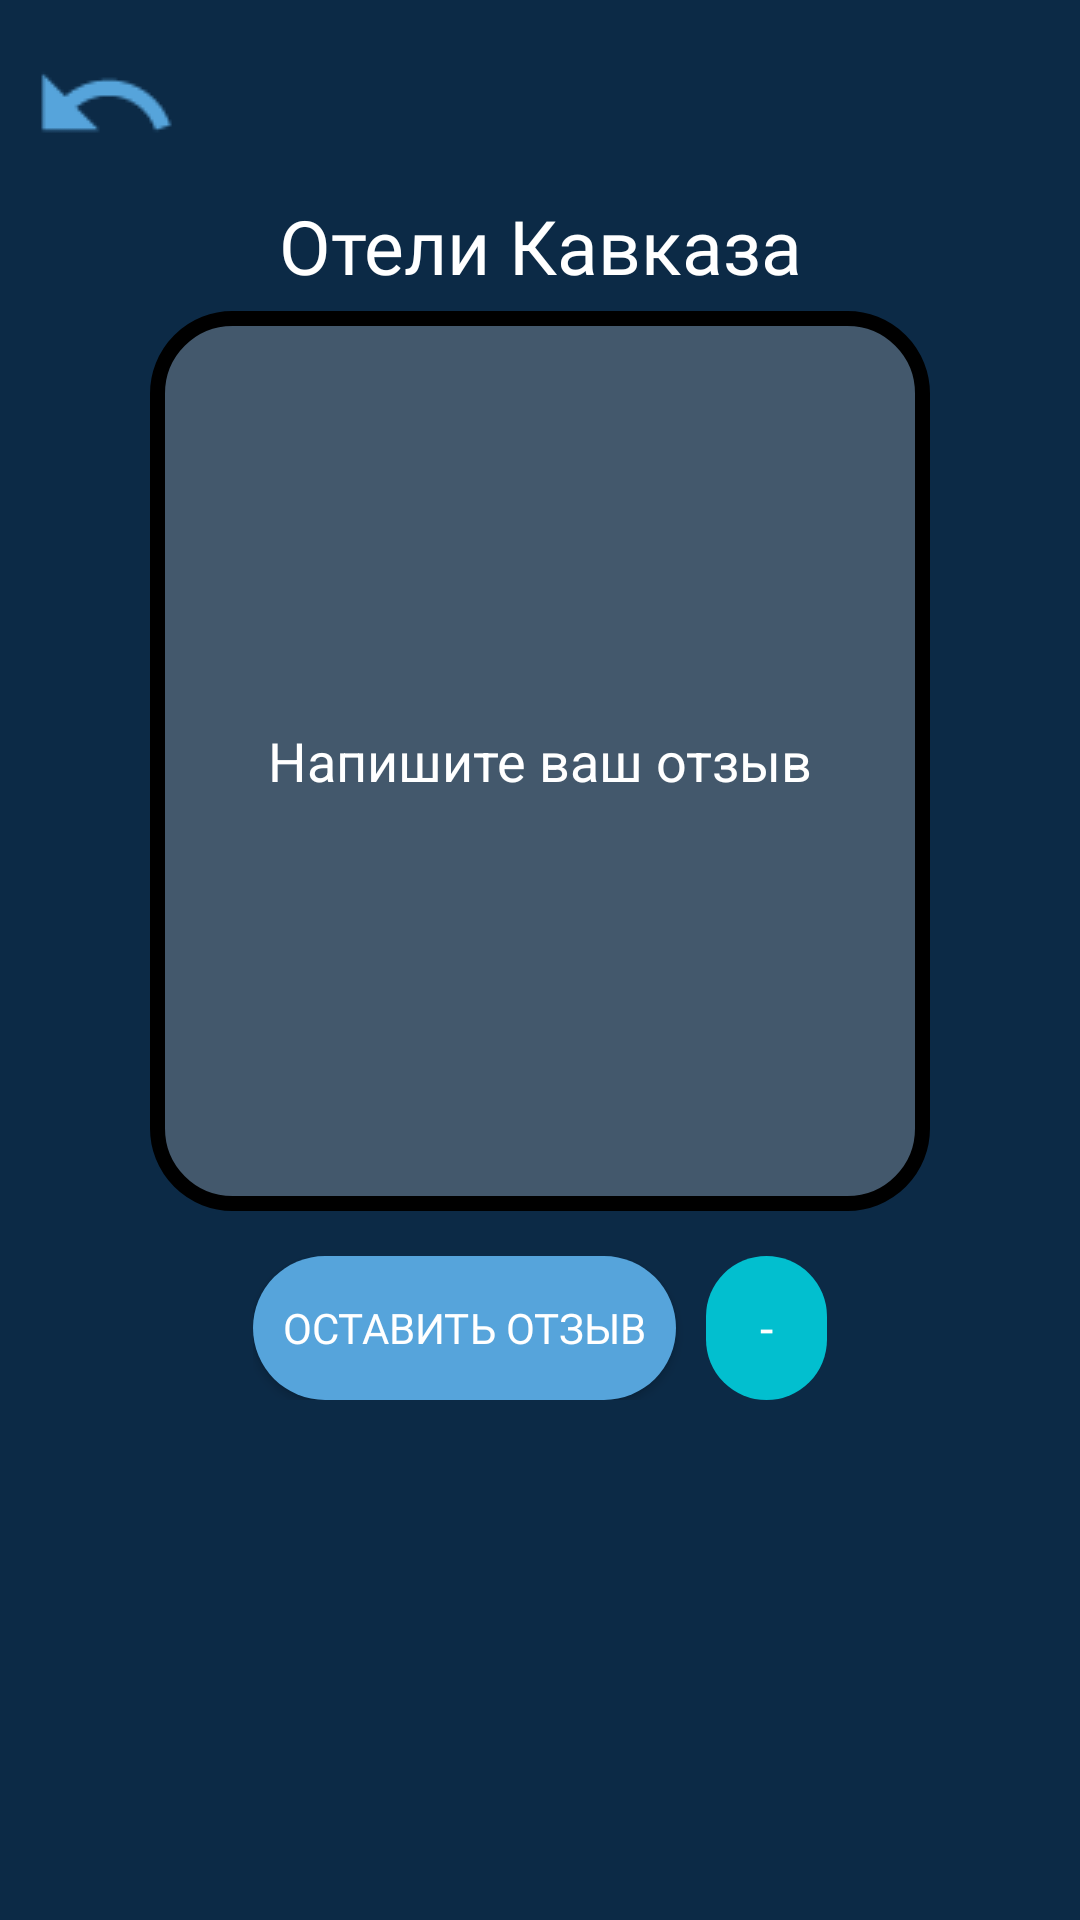

Icons on this 1080x1920 Android screen, each with the point to tap as (x,y):
undo: (106,103)
